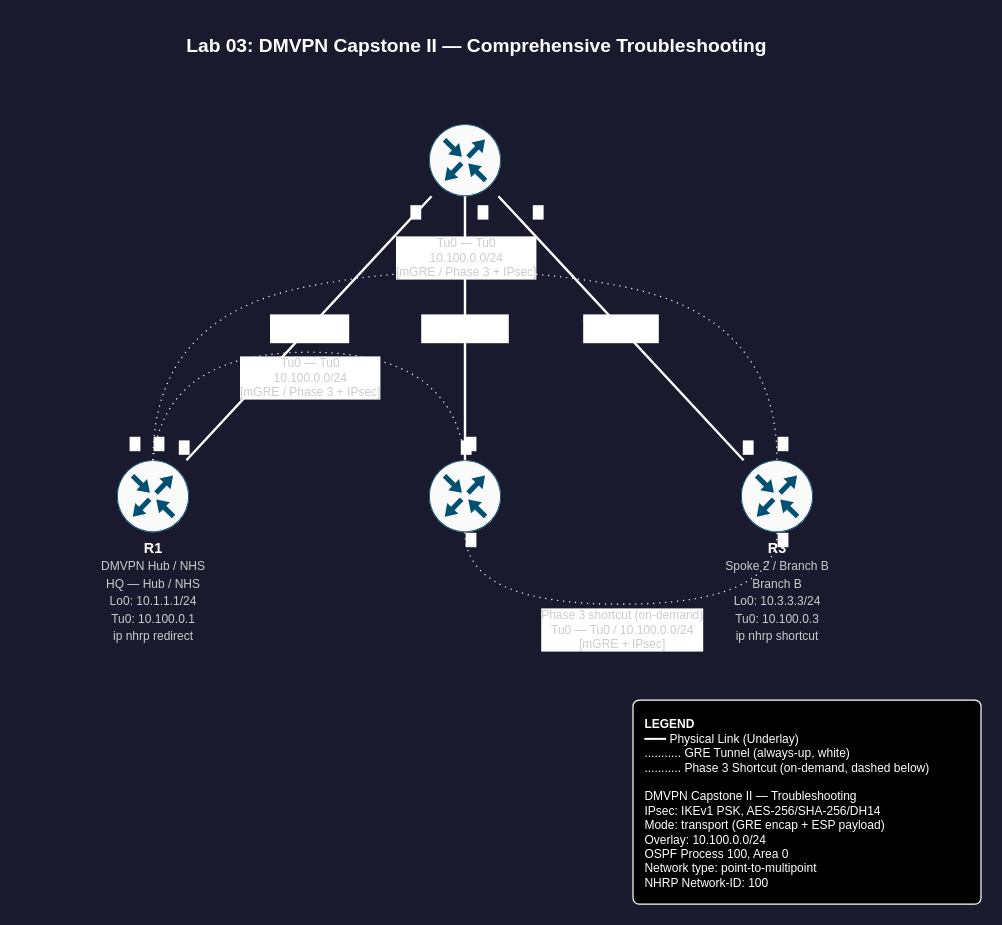
The diagram is 1002 pixels wide and 925 high, and some of its shapes have lost their labels. Each missing label, with the centre of its shape:
"R2 Spoke 1 / Branch A Branch A Lo0: 10.2.2.2/24 Tu0: 10.100.0.2 ip nhrp shortcut" goes at [464,495].
"R4 Simulated ISP/Transit Lo0: 4.4.4.4/32" goes at [464,159].
